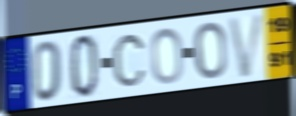0: (30, 38, 63, 103), (69, 32, 100, 100)
C: (110, 33, 148, 90)
O: (192, 20, 228, 82), (149, 25, 185, 86)
V: (226, 11, 267, 80)
